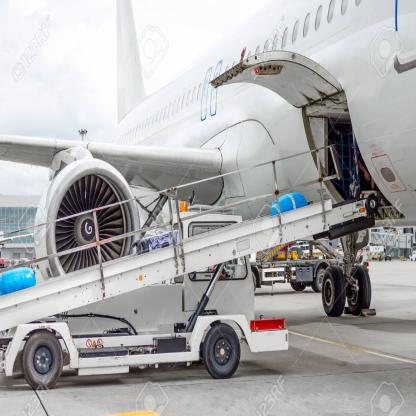baggagetruck: (0, 143, 377, 387)
